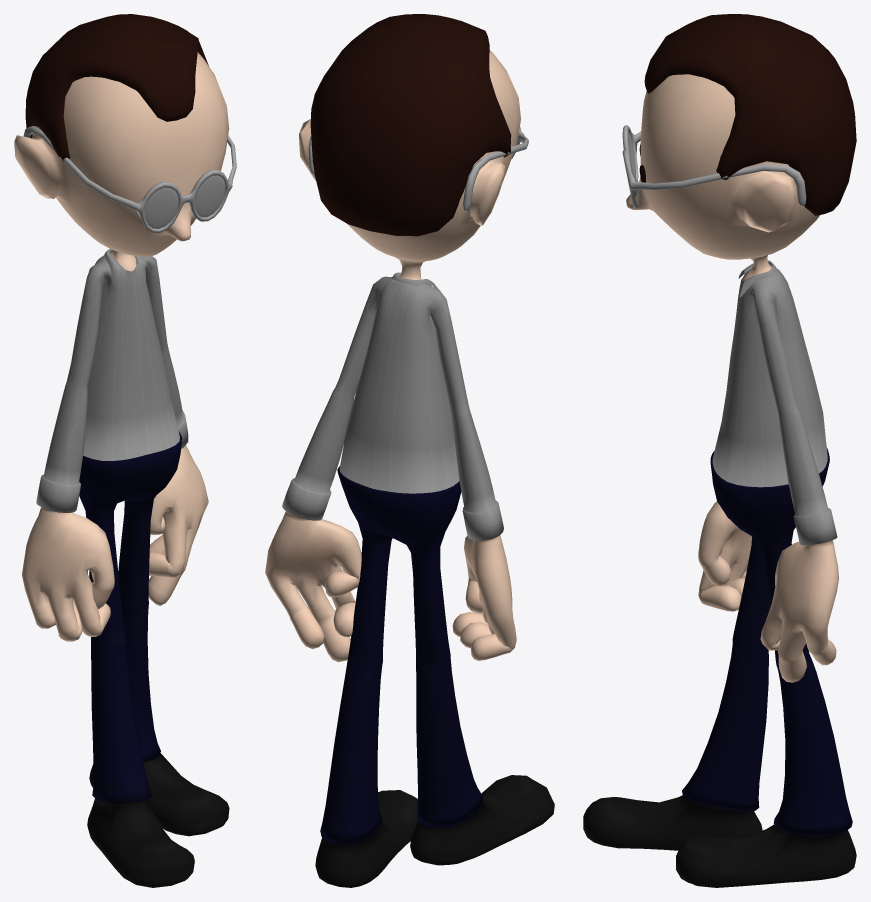
The model's file is Animation_Cartoon_Starter_000181.obj.
The picture shows the model from 3 angles, left to right: view 1: azimuth 30°, elevation 25°; view 2: azimuth 150°, elevation 25°; view 3: azimuth 270°, elevation 25°; orthographic projection. The views are drawn at different scales.
Visible parts, largest first — view 1: bm_09; view 2: bm_09; view 3: bm_09.
Boxes of the visible parts, <box> form: bm_09: <box>14,14,236,887</box>; bm_09: <box>265,14,554,887</box>; bm_09: <box>583,14,856,887</box>.
Size of the model in its own units: 0.4127 by 1.51 by 0.451.
Materials: 3 (1 with a texture image).
